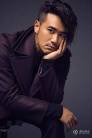male: (28, 4, 81, 65)
